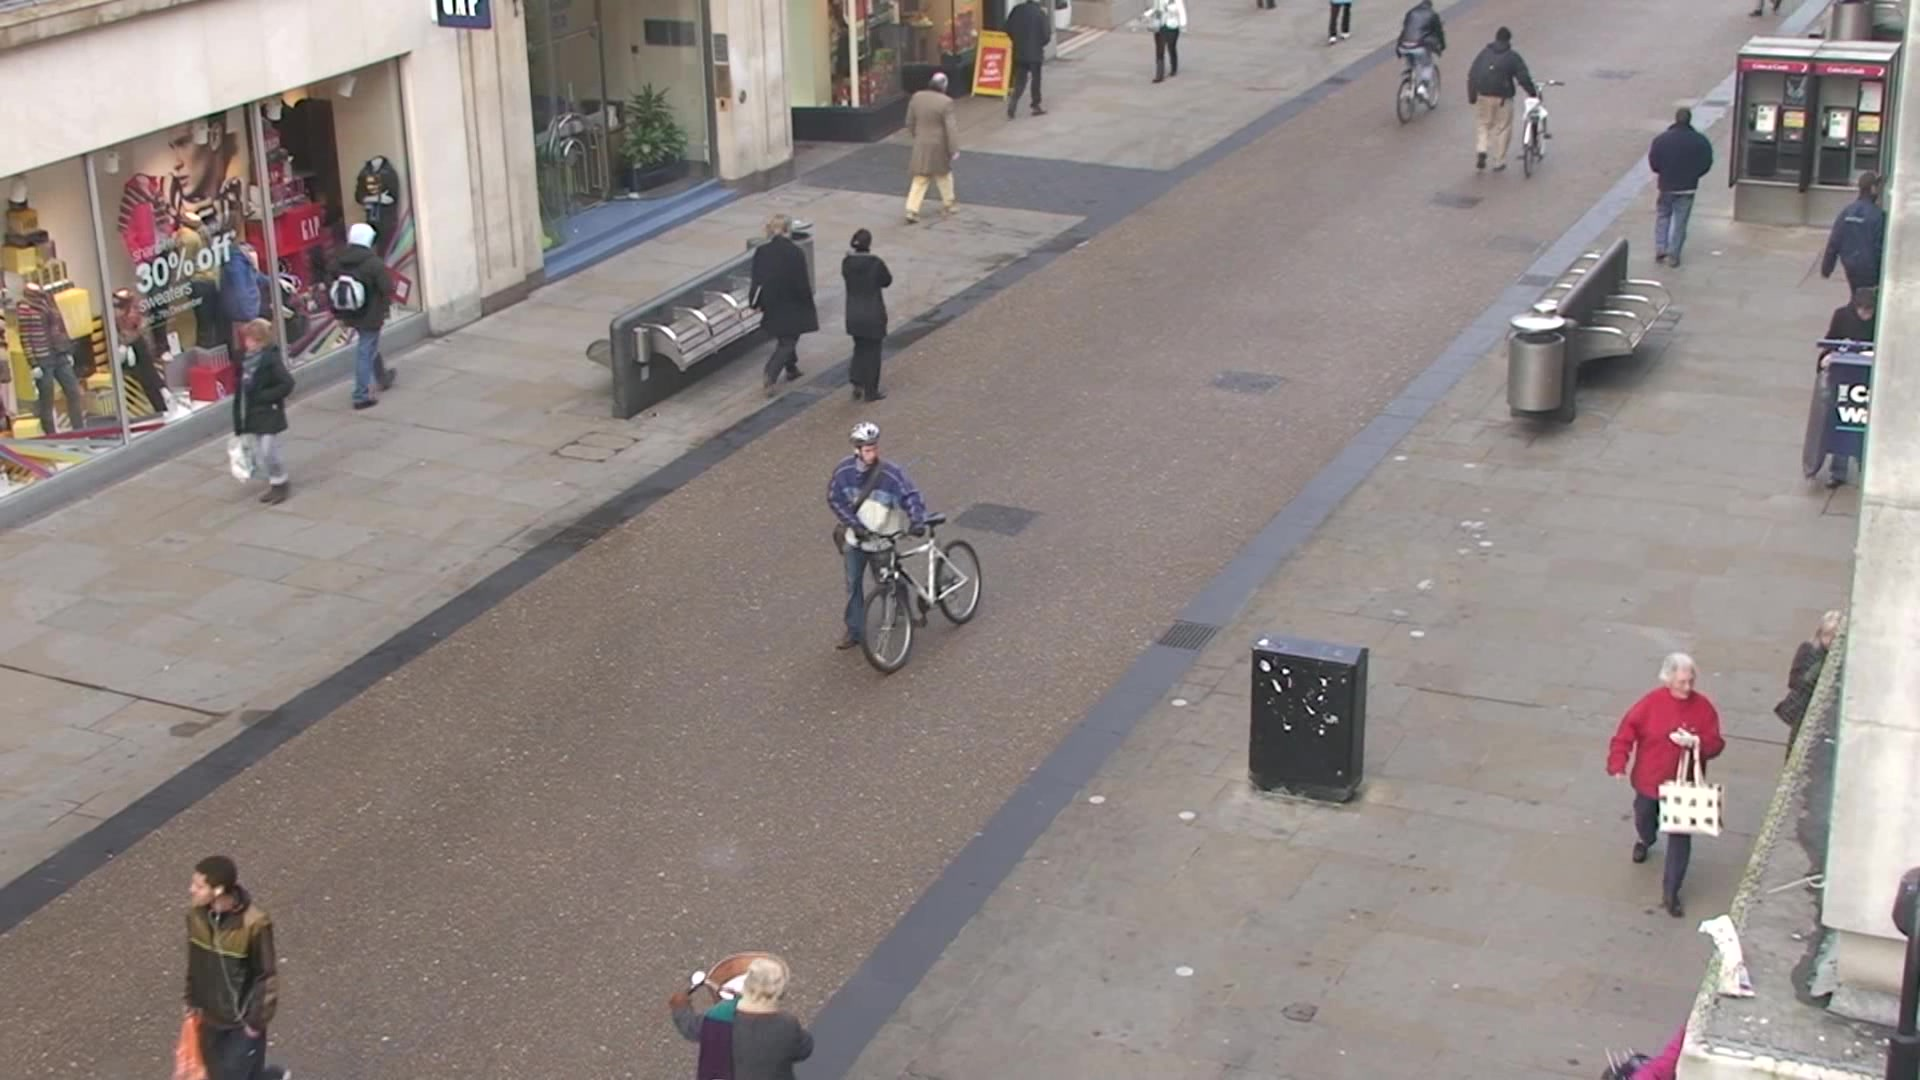person: (1607, 654, 1723, 921), (171, 853, 292, 1080), (825, 421, 923, 656), (324, 224, 397, 410), (748, 216, 820, 402), (230, 315, 293, 504), (1468, 27, 1541, 174), (1650, 106, 1713, 270), (839, 230, 896, 408), (902, 72, 963, 224)
